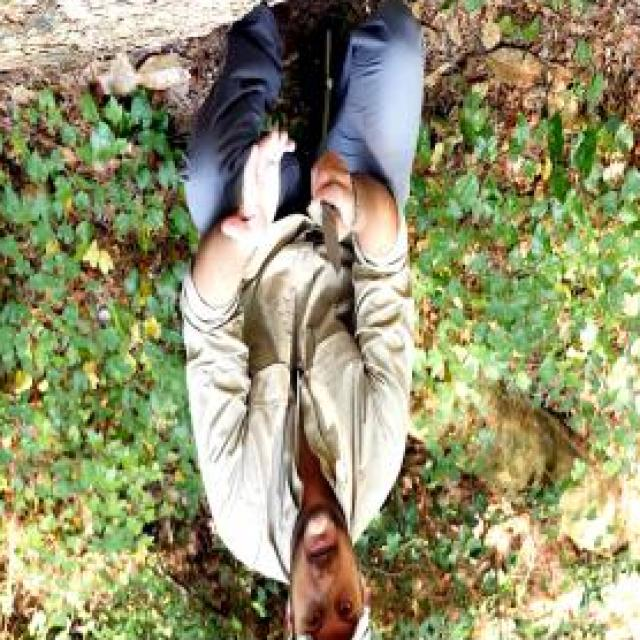knife: (309, 147, 352, 288)
